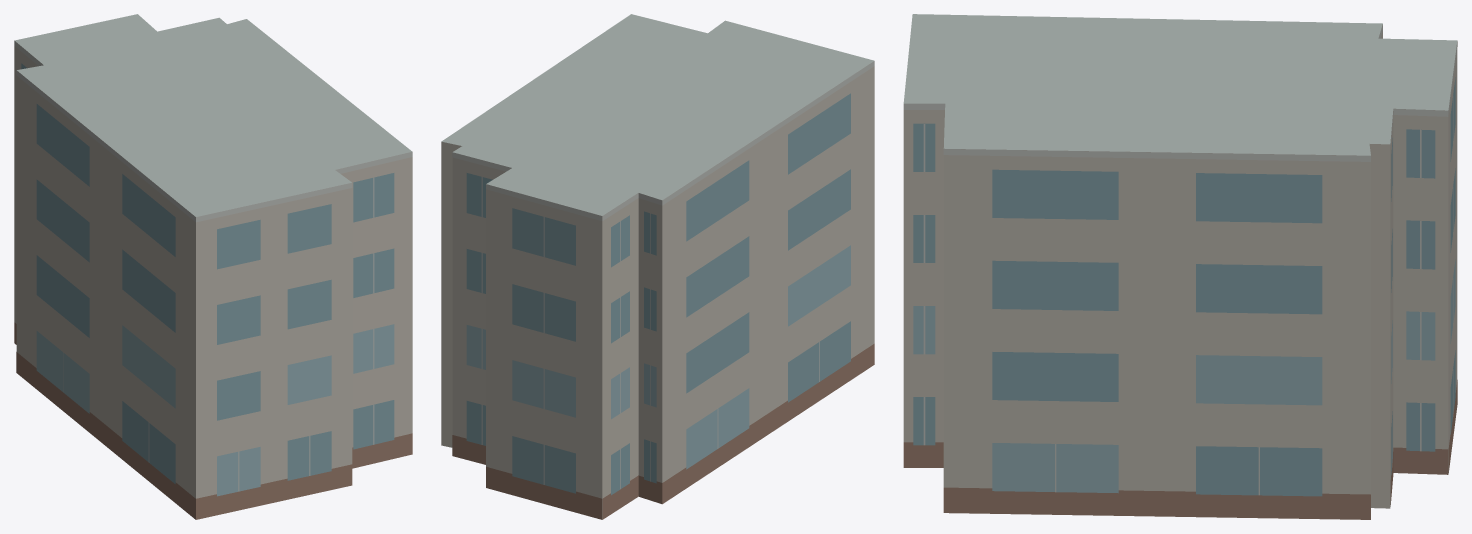
Rendered from survey-upis-32611998.glb.
3 renders of one model, left to right at view 1: azimuth 30°, elevation 25°; view 2: azimuth 150°, elevation 25°; view 3: azimuth 270°, elevation 25°, orthographic. The views are drawn at different scales.
Parts seen in each view (by area): view 1: survey-upis-32611998.tmp; view 2: survey-upis-32611998.tmp; view 3: survey-upis-32611998.tmp.
Part boxes in pixels (box(x1,y1,x2,y2)): survey-upis-32611998.tmp: box(14, 14, 412, 519); survey-upis-32611998.tmp: box(441, 14, 874, 519); survey-upis-32611998.tmp: box(903, 14, 1457, 519).
Size of the model in its own units: 11.77 by 14.1 by 19.44.
